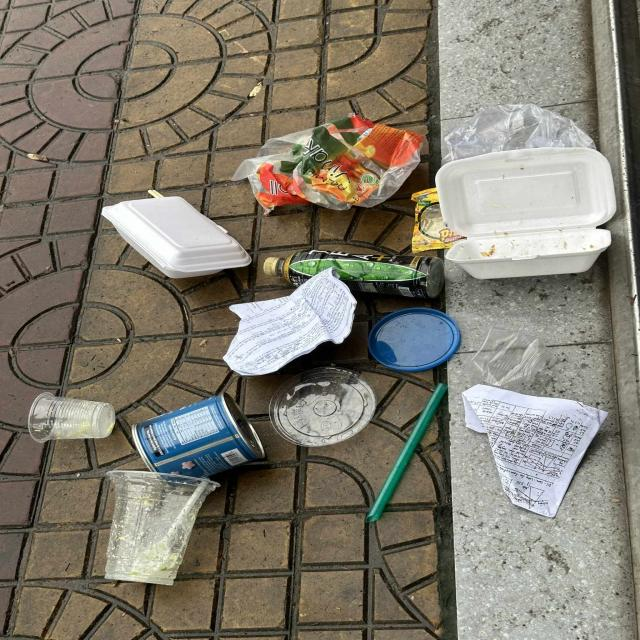bag: (229, 110, 428, 219), (439, 101, 599, 164)
bottle: (261, 248, 445, 300)
can: (129, 390, 267, 490)
drinking straw: (362, 381, 452, 525)
foam box: (433, 145, 615, 282), (100, 193, 254, 284)
lid: (267, 364, 378, 448), (366, 306, 463, 373)
packet: (409, 187, 464, 254)
paper: (459, 381, 613, 520), (221, 265, 358, 379)
plastic glass: (102, 468, 219, 588), (468, 324, 554, 388), (27, 390, 118, 444)
